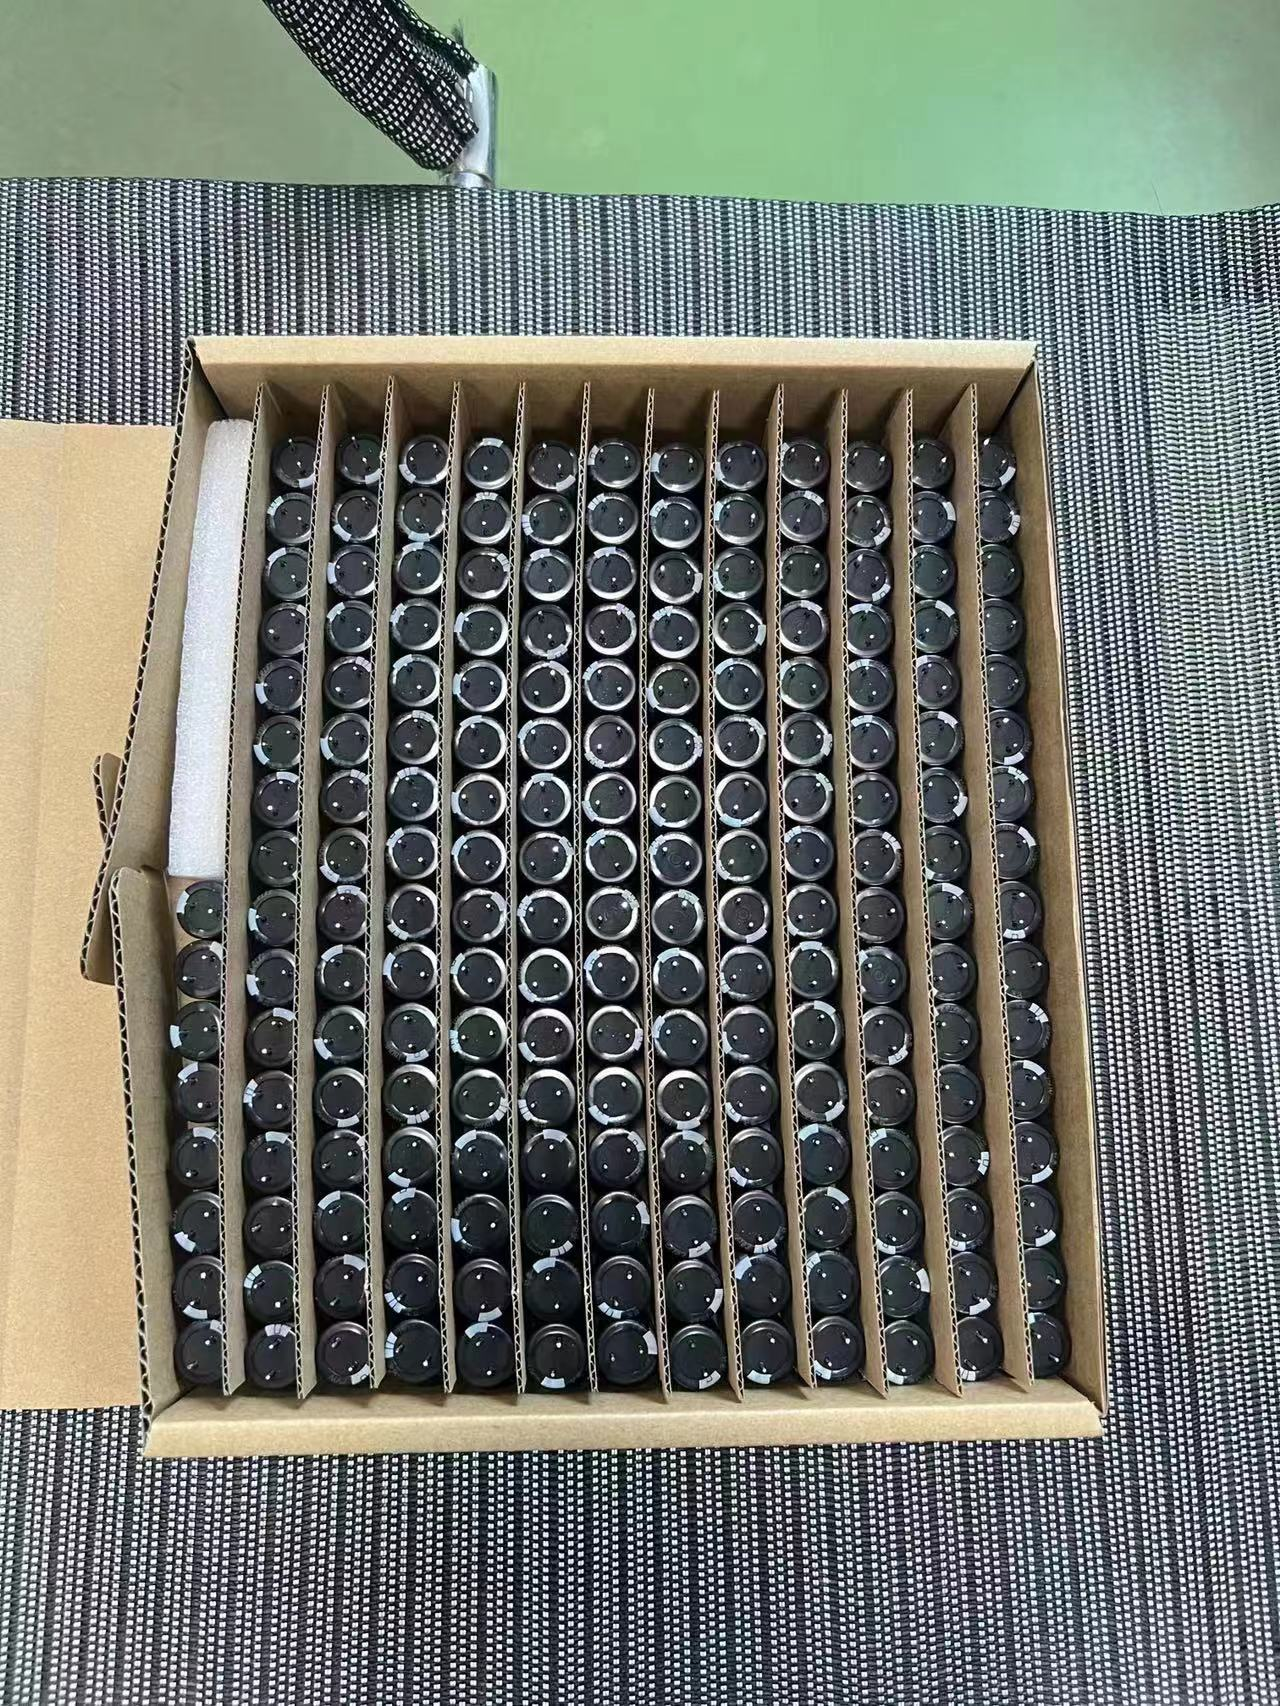battery: (257, 678, 297, 717), (257, 924, 297, 963), (210, 1175, 247, 1217), (259, 800, 298, 839), (354, 1002, 393, 1041), (354, 1042, 393, 1081), (403, 1166, 442, 1205), (258, 597, 298, 635), (308, 1171, 346, 1211), (354, 1082, 391, 1123), (258, 637, 296, 676), (259, 760, 297, 799), (304, 639, 343, 676), (308, 1045, 346, 1084), (308, 1127, 346, 1166), (356, 1164, 394, 1203), (259, 1088, 296, 1128), (307, 597, 343, 637), (308, 1085, 344, 1125), (402, 1078, 438, 1119), (259, 883, 297, 921), (307, 558, 344, 596), (307, 963, 344, 1000), (352, 600, 390, 637), (351, 881, 389, 918), (354, 921, 391, 959), (259, 1006, 296, 1045), (259, 1049, 296, 1088), (259, 1131, 296, 1170), (307, 678, 343, 717), (354, 961, 390, 1000), (399, 561, 436, 600), (401, 879, 437, 918), (211, 760, 246, 800), (208, 1049, 243, 1089), (259, 558, 297, 594), (258, 721, 296, 757), (259, 844, 297, 881), (262, 1174, 298, 1211), (307, 760, 343, 797), (307, 842, 344, 878), (307, 1004, 343, 1042), (352, 680, 389, 718), (352, 722, 390, 758), (351, 842, 389, 878), (355, 1123, 393, 1159), (399, 601, 436, 639), (401, 920, 437, 957), (399, 960, 437, 996), (402, 999, 438, 1037), (211, 721, 246, 760), (208, 967, 243, 1006), (208, 1092, 243, 1131), (210, 1132, 245, 1171), (307, 881, 342, 920), (445, 600, 479, 640), (259, 965, 296, 1002), (307, 721, 343, 757), (352, 640, 389, 676), (352, 801, 389, 838), (399, 682, 436, 718), (401, 800, 437, 836), (208, 1010, 243, 1047), (305, 924, 343, 959), (354, 561, 389, 598), (401, 839, 436, 877), (402, 1039, 437, 1077), (212, 557, 246, 596), (449, 995, 483, 1034), (452, 1157, 485, 1196), (211, 598, 246, 635), (210, 844, 245, 881), (354, 760, 389, 796), (399, 721, 434, 757), (403, 1121, 438, 1157), (448, 916, 483, 952), (212, 639, 246, 676), (211, 680, 245, 718), (211, 926, 245, 964), (401, 760, 434, 797), (445, 640, 479, 678), (450, 1114, 484, 1152), (211, 885, 243, 924), (446, 719, 479, 758), (449, 954, 481, 993), (450, 1074, 483, 1113), (160, 1054, 190, 1096), (307, 803, 342, 838), (399, 643, 434, 678), (446, 760, 481, 795), (211, 803, 245, 839), (445, 563, 479, 600), (445, 680, 479, 717), (450, 1035, 483, 1073), (497, 1032, 528, 1071), (160, 887, 190, 928), (446, 838, 480, 872), (496, 914, 528, 950), (159, 721, 188, 760), (161, 971, 190, 1011), (446, 799, 479, 834), (448, 877, 480, 911), (497, 954, 528, 991), (161, 1097, 188, 1139), (160, 804, 190, 842), (160, 929, 190, 967), (497, 1073, 527, 1110), (500, 1153, 530, 1191), (493, 719, 522, 758), (496, 877, 527, 911), (493, 641, 523, 678), (493, 680, 523, 717), (159, 639, 187, 676), (160, 764, 188, 801), (161, 846, 190, 883), (160, 1014, 188, 1051), (497, 993, 526, 1031), (159, 597, 186, 636), (492, 565, 522, 600), (493, 604, 523, 639), (495, 799, 524, 834), (159, 557, 186, 594), (547, 1157, 573, 1196), (495, 760, 523, 795), (496, 838, 524, 872), (499, 1114, 527, 1149), (538, 643, 566, 678), (159, 680, 186, 717), (541, 758, 567, 795), (541, 797, 567, 834), (589, 1032, 616, 1069), (545, 1031, 570, 1069), (592, 1113, 617, 1151), (545, 1071, 571, 1106), (585, 643, 609, 680), (588, 953, 614, 987), (541, 721, 566, 756), (542, 875, 567, 910), (546, 1109, 571, 1144), (588, 911, 613, 946), (539, 602, 563, 639), (541, 680, 565, 717), (543, 913, 567, 949), (545, 952, 569, 988), (588, 991, 612, 1027), (628, 567, 652, 604), (635, 1065, 657, 1102), (637, 1106, 660, 1144), (545, 991, 569, 1026), (541, 562, 563, 598), (588, 797, 610, 834), (588, 872, 610, 909), (592, 1071, 614, 1108), (542, 838, 567, 870), (585, 604, 606, 641), (585, 682, 606, 719), (635, 987, 655, 1026), (588, 836, 612, 868), (633, 949, 655, 985), (682, 1023, 703, 1059), (682, 1061, 703, 1097), (584, 566, 606, 600), (585, 721, 606, 756), (639, 1149, 657, 1188), (594, 1156, 614, 1192), (629, 644, 649, 680), (631, 758, 651, 795), (631, 682, 649, 719), (629, 605, 649, 640), (631, 797, 651, 832), (636, 1027, 656, 1062), (632, 834, 651, 870), (586, 760, 606, 793), (632, 911, 652, 945), (684, 1102, 705, 1136), (675, 605, 692, 643), (631, 721, 649, 756), (633, 872, 652, 907), (675, 645, 692, 682), (684, 1141, 703, 1175), (678, 796, 695, 831), (678, 871, 695, 906), (679, 909, 696, 944), (676, 566, 692, 604), (680, 946, 696, 981), (680, 984, 696, 1019), (676, 683, 692, 717), (678, 760, 694, 793), (678, 721, 692, 756), (678, 834, 692, 867)
